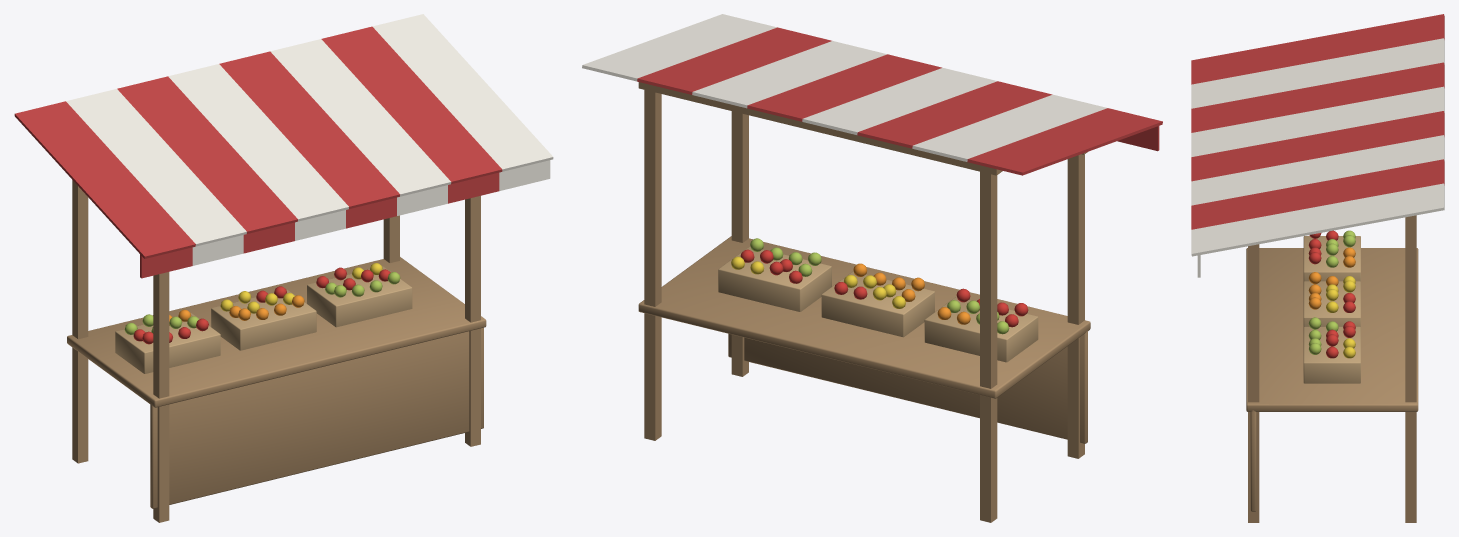
Rendered from market_stall.glb.
The picture shows the model from 3 angles, left to right: view 1: azimuth 30°, elevation 25°; view 2: azimuth 150°, elevation 25°; view 3: azimuth 270°, elevation 25°; orthographic projection. The views are drawn at different scales.
Visible parts, largest first — view 1: front, counter, stripe0, stripe5, stripe6, stripe7, stripe1, stripe4, stripe3, stripe2, post-1.2+0.6, post-1.2-0.6 (+13 smaller); view 2: counter, front, post+1.2+0.6, post-1.2+0.6, stripe0, stripe2, stripe4, stripe6, stripe7, stripe1, stripe3, stripe5 (+6 smaller); view 3: counter, stripe7, stripe6, stripe2, stripe4, stripe5, stripe0, stripe1, stripe3, post+1.2+0.6, post+1.2-0.6, crate_c (+3 smaller).
Part boxes in pixels (x1=…): front: x1=150, y1=327, x2=483, y2=508; counter: x1=67, y1=257, x2=486, y2=407; stripe0: x1=14, y1=101, x2=195, y2=258; stripe5: x1=270, y1=39, x2=451, y2=196; stripe6: x1=321, y1=26, x2=502, y2=184; stripe7: x1=372, y1=14, x2=553, y2=171; stripe1: x1=66, y1=89, x2=246, y2=246; stripe4: x1=219, y1=51, x2=400, y2=208; stripe3: x1=168, y1=64, x2=348, y2=221; stripe2: x1=117, y1=76, x2=297, y2=233; post-1.2+0.6: x1=72, y1=180, x2=88, y2=463; post-1.2-0.6: x1=153, y1=272, x2=169, y2=522; counter: x1=638, y1=236, x2=1090, y2=398; front: x1=728, y1=331, x2=1087, y2=443; post+1.2+0.6: x1=644, y1=83, x2=661, y2=440; post-1.2+0.6: x1=980, y1=166, x2=997, y2=522; stripe0: x1=967, y1=108, x2=1162, y2=175; stripe2: x1=857, y1=81, x2=1052, y2=148; stripe4: x1=747, y1=54, x2=941, y2=121; stripe6: x1=637, y1=27, x2=831, y2=94; stripe7: x1=582, y1=14, x2=776, y2=81; stripe1: x1=912, y1=94, x2=1107, y2=161; stripe3: x1=802, y1=67, x2=997, y2=134; stripe5: x1=692, y1=41, x2=886, y2=108; counter: x1=1246, y1=248, x2=1418, y2=411; stripe7: x1=1191, y1=183, x2=1444, y2=256; stripe6: x1=1191, y1=159, x2=1444, y2=229; stripe2: x1=1191, y1=62, x2=1444, y2=132; stripe4: x1=1191, y1=111, x2=1444, y2=181; stripe5: x1=1191, y1=135, x2=1444, y2=205; stripe0: x1=1191, y1=14, x2=1444, y2=84; stripe1: x1=1191, y1=38, x2=1444, y2=108; stripe3: x1=1191, y1=86, x2=1444, y2=156; post+1.2+0.6: x1=1405, y1=215, x2=1416, y2=522; post+1.2-0.6: x1=1248, y1=250, x2=1259, y2=522; crate_c: x1=1303, y1=326, x2=1360, y2=383.
Size of the model in its own units: 3.2 by 2.59 by 1.77.
